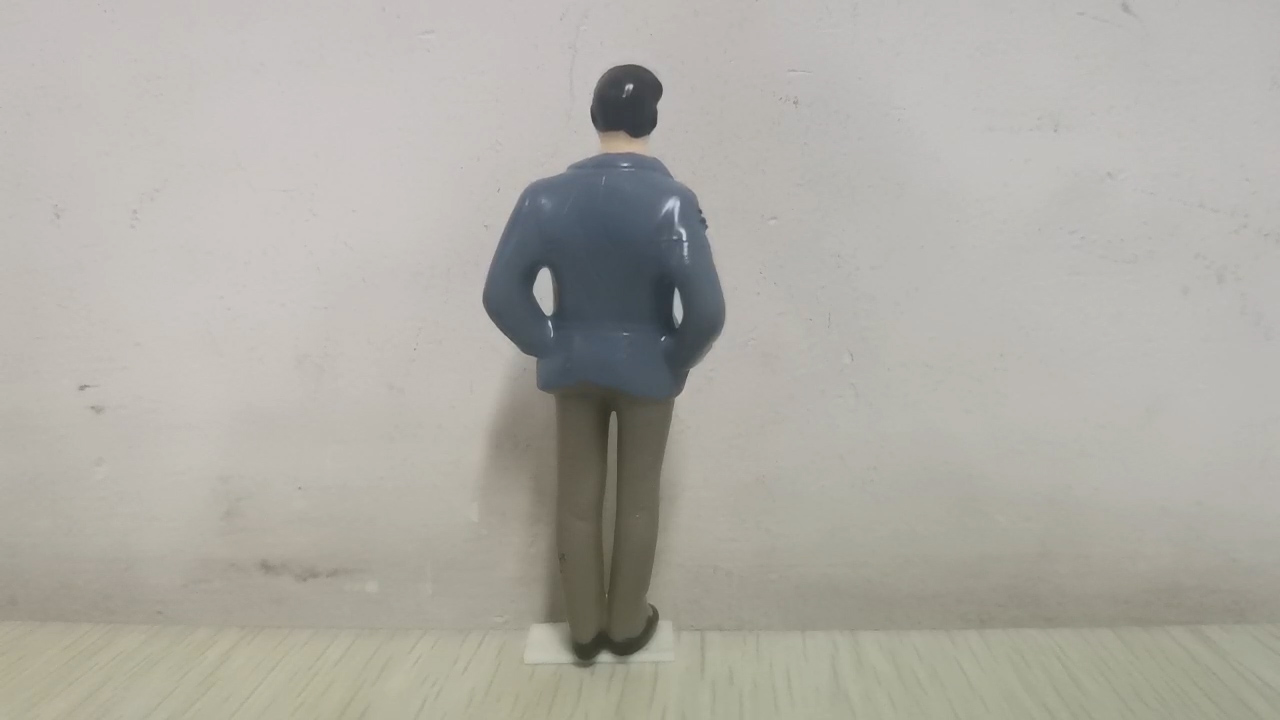person: (479, 62, 730, 661)
